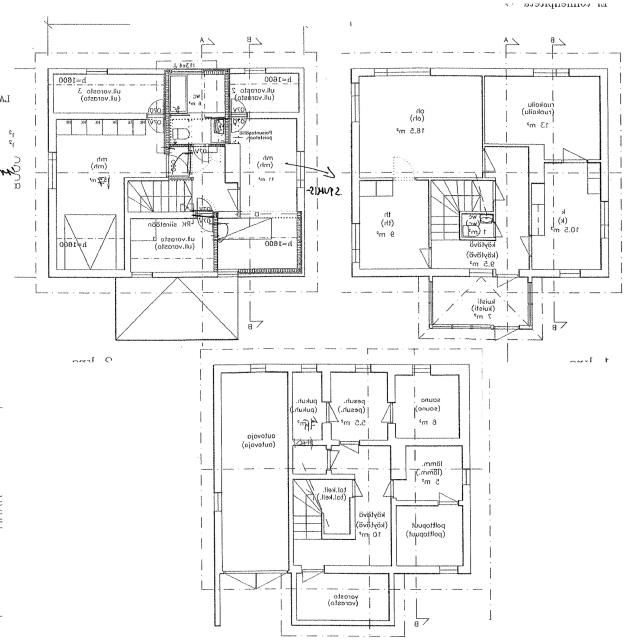door: (256, 570, 287, 604), (226, 570, 256, 604), (495, 324, 519, 352), (564, 135, 587, 162), (498, 269, 519, 298), (303, 566, 323, 594), (321, 403, 349, 422), (482, 150, 506, 171), (218, 189, 242, 210), (462, 103, 486, 123), (370, 404, 396, 422), (341, 440, 359, 464), (440, 482, 458, 506), (493, 181, 515, 200), (327, 450, 348, 468), (170, 154, 191, 172), (412, 249, 432, 267), (511, 237, 532, 254), (148, 112, 163, 134), (148, 97, 163, 119), (232, 111, 246, 134), (376, 480, 396, 496), (232, 96, 246, 118), (351, 481, 371, 496), (194, 144, 209, 162), (215, 223, 232, 238), (494, 224, 509, 236)
